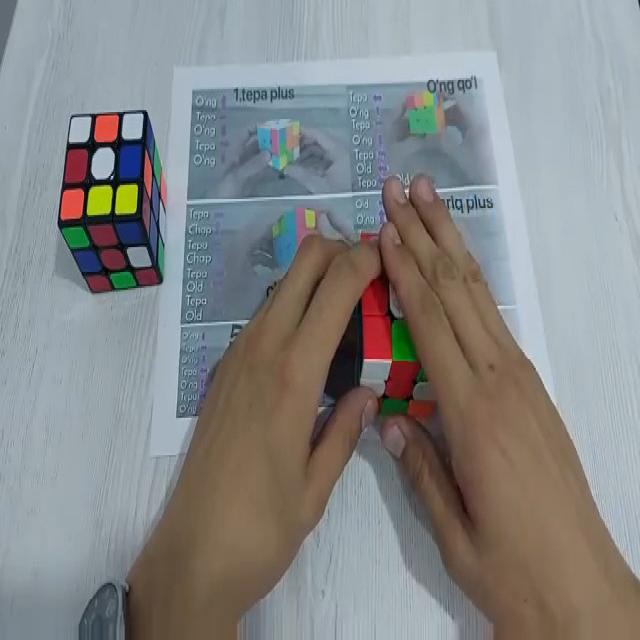Rub: (59, 110, 169, 300), (352, 228, 444, 417)
